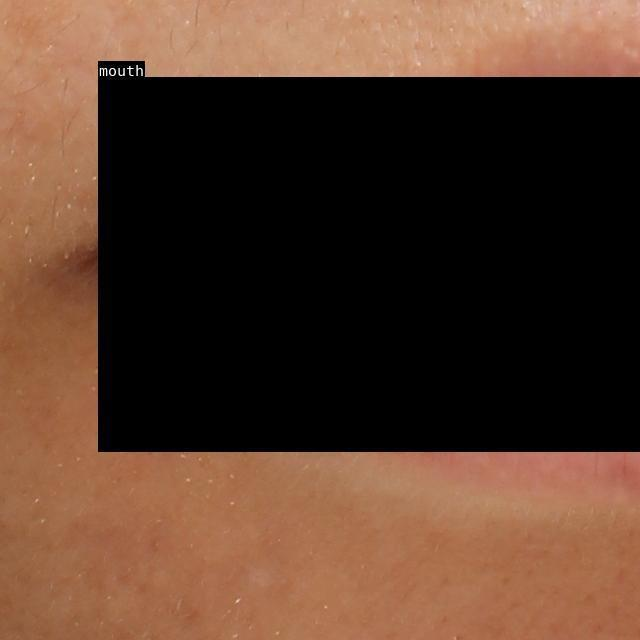hypertrophic_scar: (236, 564, 274, 598)
